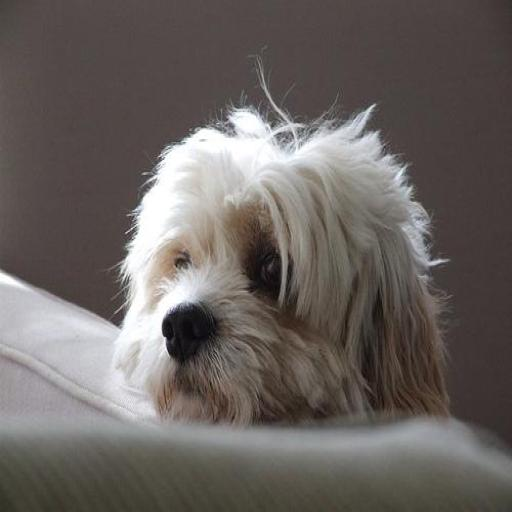dog_face: (133, 120, 397, 415)
